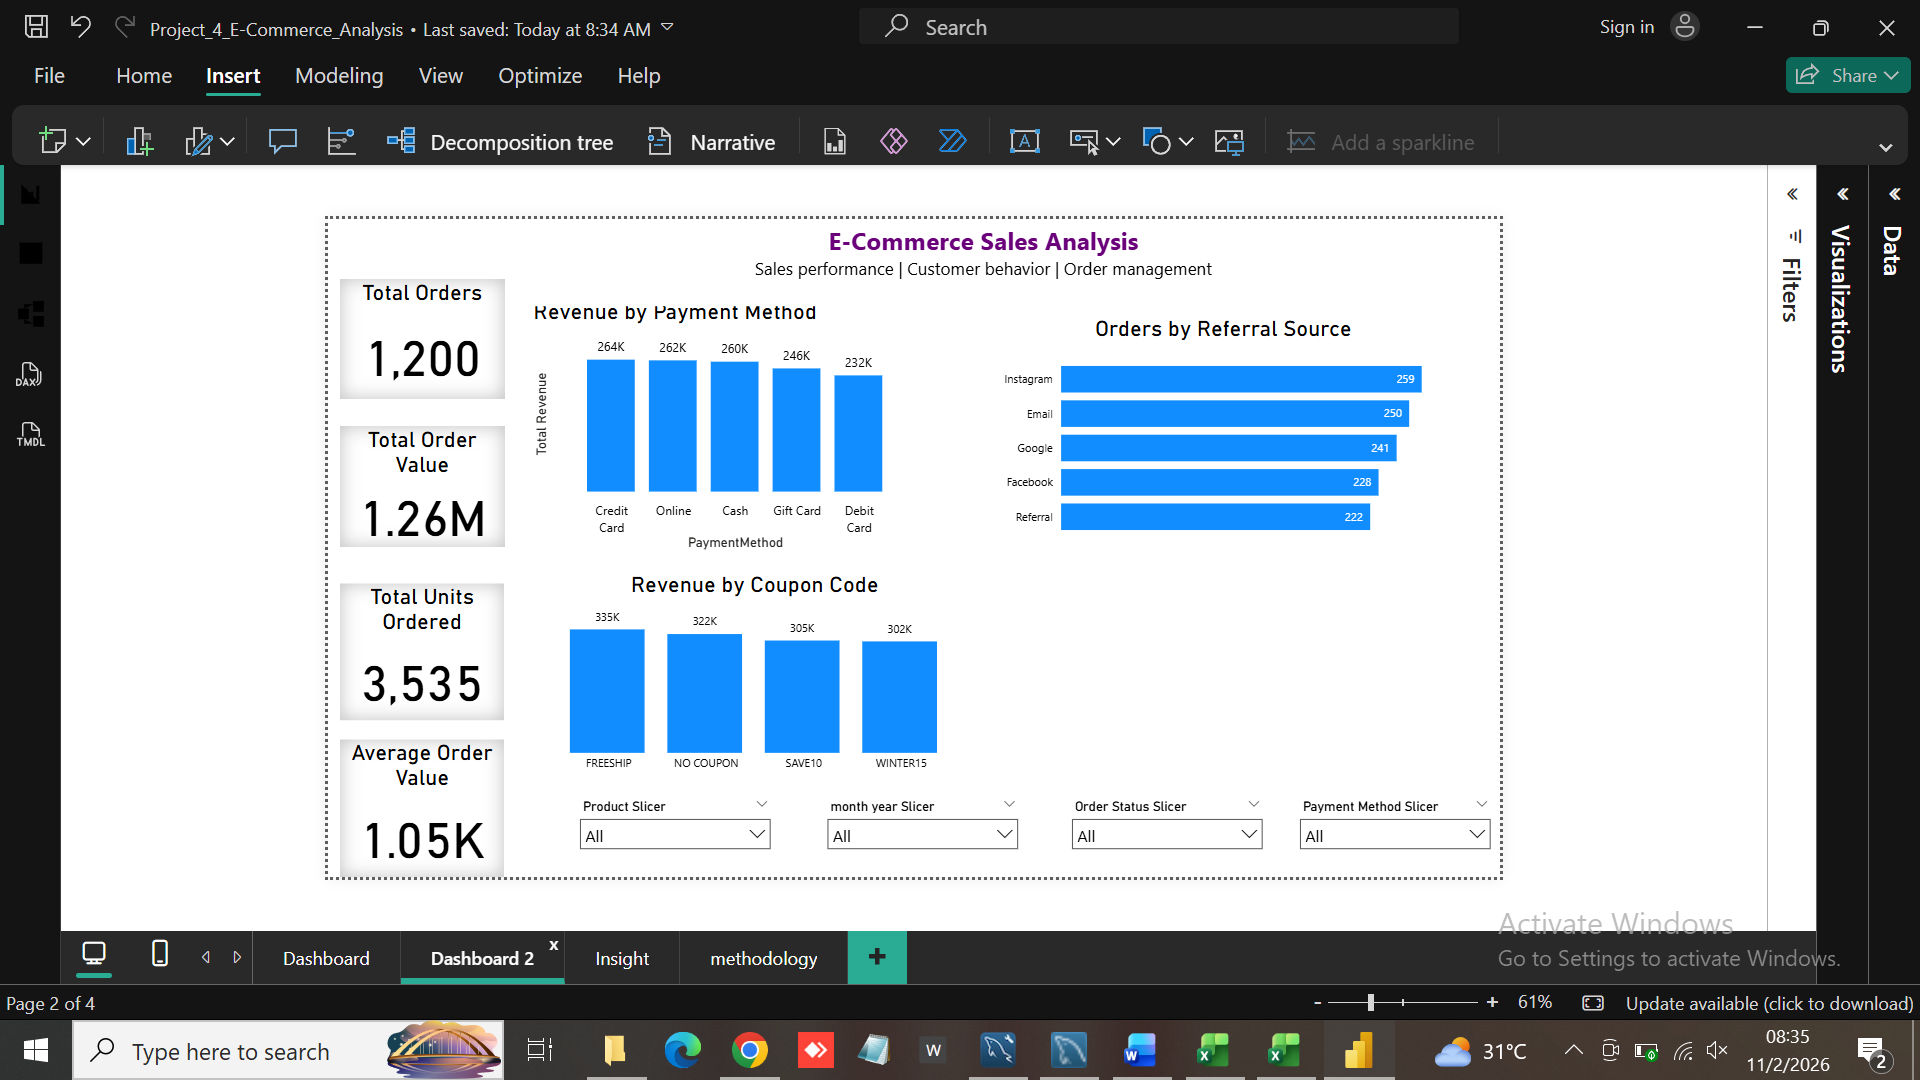

This screenshot's page, from the dashboard's own definition file:
{"tool":"powerbi","page":{"name":"Dashboard 2","canvas":[1280,720],"ordinal":1},"visuals":[{"type":"clusteredColumnChart","title":"Revenue by Payment Method","fields":{"Category":["FactOrders.PaymentMethod"],"Y":["FactOrders.Total Revenue"]},"box":[219.7,86.9,419.7,278.7],"z":0},{"type":"clusteredBarChart","title":"Orders by Referral Source","fields":{"Category":["FactOrders.ReferralSource"],"Y":["CountNonNull(FactOrders.OrderID)"]},"box":[727.9,104.9,501.6,255.7],"z":1000},{"type":"clusteredColumnChart","title":"Revenue by Coupon Code","fields":{"Category":["FactOrders.CouponCode"],"Y":["FactOrders.Total Revenue"]},"box":[216.4,385.2,500,227.9],"z":2000},{"type":"slicer","fields":{"Values":["FactOrders.Product"]},"box":[265.6,627.9,227.9,91.8],"z":3000},{"type":"slicer","fields":{"Values":["FactOrders.month year"]},"box":[536.1,627.9,227.9,91.8],"z":4000},{"type":"slicer","fields":{"Values":["FactOrders.OrderStatus"]},"box":[803.3,627.9,227.9,91.8],"z":5000},{"type":"slicer","fields":{"Values":["FactOrders.PaymentMethod"]},"box":[1052.5,627.9,227.9,91.8],"z":6000},{"type":"card","title":"Total Orders","fields":{"Values":["FactOrders.Total Orders"]},"box":[12.5,65.7,179.9,131.4],"z":7000},{"type":"card","title":"Total Order Value","fields":{"Values":["FactOrders.Total Revenue"]},"box":[12.5,226.8,179.9,133],"z":8000},{"type":"card","title":"Total Units Ordered","fields":{"Values":["FactOrders.Total Quantity Sold"]},"box":[13.2,398.7,179.5,149.3],"z":9000},{"type":"card","title":"Average Order Value","fields":{"Values":["FactOrders.Average Order Value"]},"box":[13.2,568.8,179.5,151.2],"z":10000},{"type":"textbox","box":[219.7,0,993.4,95.1],"z":10001}]}

Visuals, with their boxes on the page's 1280x720 design canvas (x1, y1, x2, y2). These are canvas units, not pixel positions in the 1920x1080 screenshot, which may show the page scaled, cropped or inside an application window:
"Revenue by Payment Method" clusteredColumnChart: crop(220, 87, 639, 366)
"Orders by Referral Source" clusteredBarChart: crop(728, 105, 1230, 361)
"Revenue by Coupon Code" clusteredColumnChart: crop(216, 385, 716, 613)
slicer - FactOrders.Product: crop(266, 628, 494, 720)
slicer - FactOrders.month year: crop(536, 628, 764, 720)
slicer - FactOrders.OrderStatus: crop(803, 628, 1031, 720)
slicer - FactOrders.PaymentMethod: crop(1052, 628, 1280, 720)
"Total Orders" card: crop(12, 66, 192, 197)
"Total Order Value" card: crop(12, 227, 192, 360)
"Total Units Ordered" card: crop(13, 399, 193, 548)
"Average Order Value" card: crop(13, 569, 193, 720)
textbox: crop(220, 0, 1213, 95)
